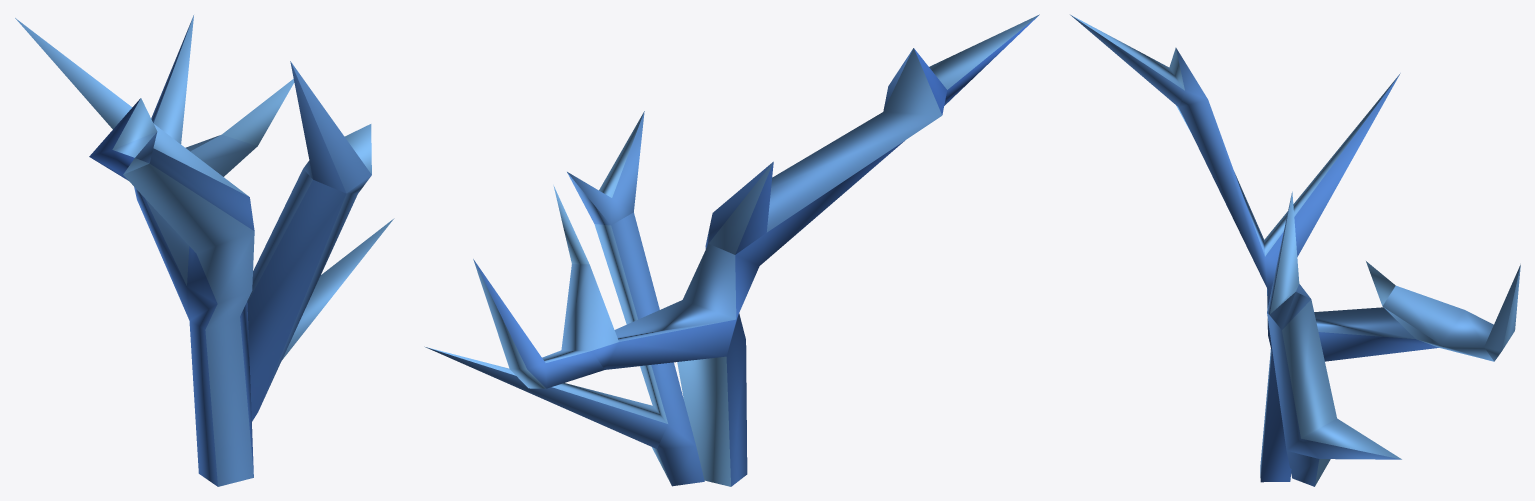
The model's file is seaGrassMiddleBlue.fbx.
3 views of the same model, side by side, from view 1: azimuth 30°, elevation 25°; view 2: azimuth 150°, elevation 25°; view 3: azimuth 270°, elevation 25° (orthographic). The views are drawn at different scales.
Visible parts, largest first — view 1: seaGrassMiddleBlueObject; view 2: seaGrassMiddleBlueObject; view 3: seaGrassMiddleBlueObject.
Part boxes in pixels (x1,y1,x2,y2): seaGrassMiddleBlueObject: (15,15,394,486); seaGrassMiddleBlueObject: (424,14,1039,486); seaGrassMiddleBlueObject: (1070,14,1520,486).
Size of the model in its own units: 0.4555 by 0.4336 by 0.4737.
Materials: 1 (1 with a texture image).
